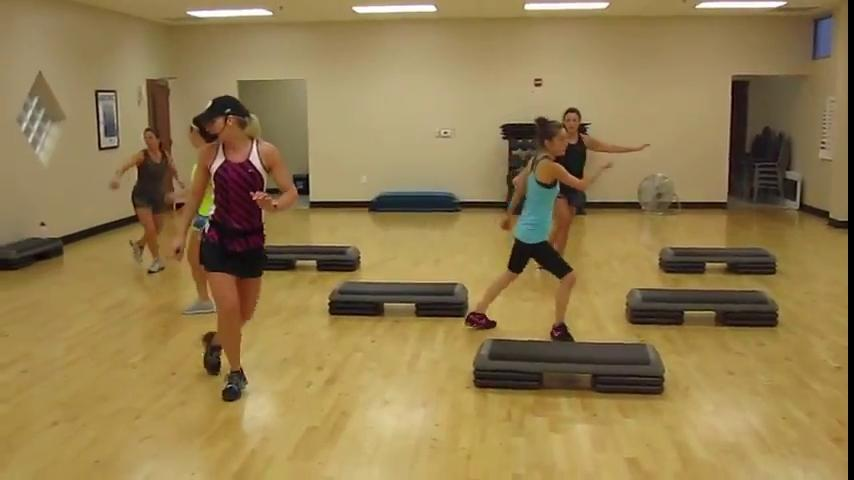victim: (188, 93, 300, 406), (458, 114, 598, 349), (540, 106, 652, 266), (106, 126, 188, 280)
